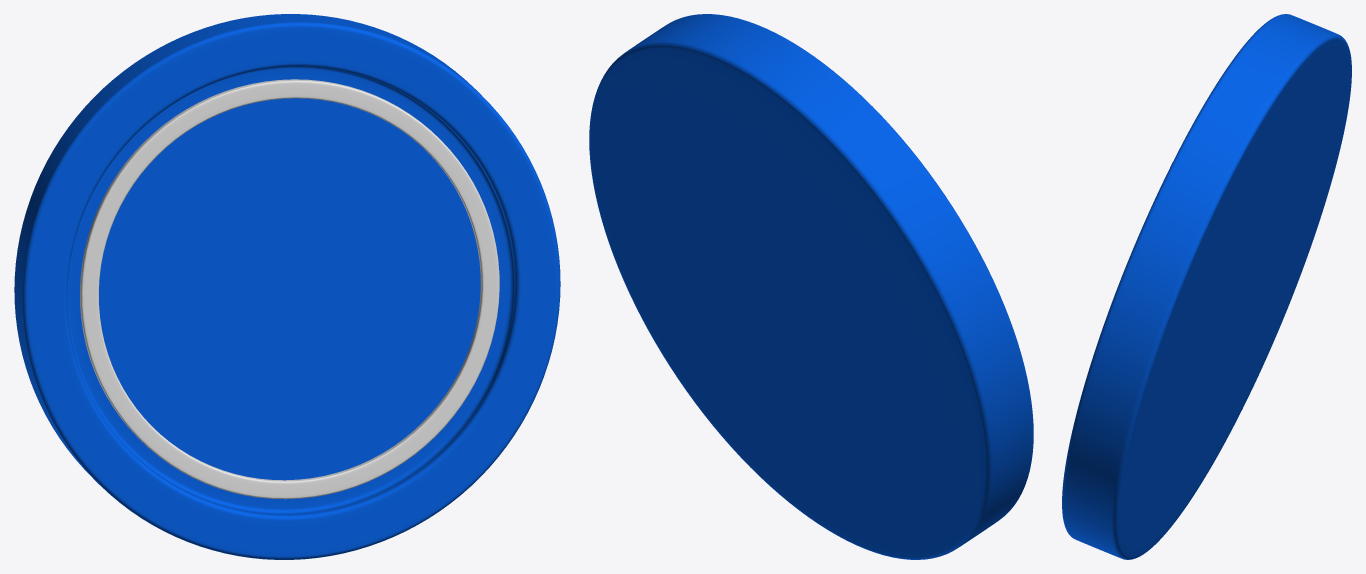
File: Toncoin.glb
The picture shows the model from 3 angles, left to right: view 1: azimuth 30°, elevation 25°; view 2: azimuth 150°, elevation 25°; view 3: azimuth 270°, elevation 25°; orthographic projection. The views are drawn at different scales.
Parts seen in each view (by area): view 1: Cylinder.014, Curve.039; view 2: Cylinder.014; view 3: Cylinder.014.
Boxes of the visible parts, x1,y1,x2,y2 form: Cylinder.014: (14, 14, 560, 559); Curve.039: (80, 79, 499, 499); Cylinder.014: (589, 14, 1033, 559); Cylinder.014: (1062, 14, 1351, 559).
Bounding box in the file's own units: 5.35 × 5.44 × 2.81.
